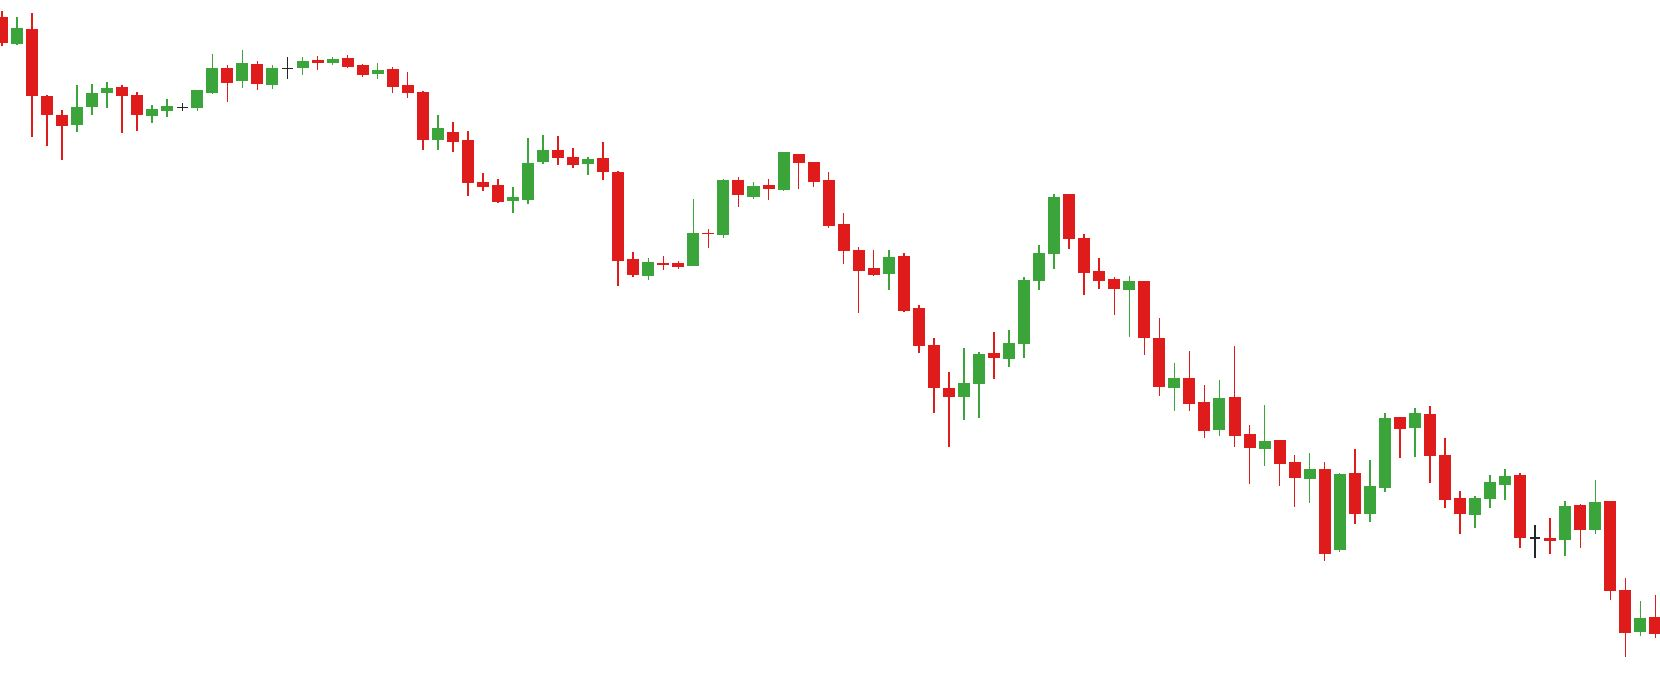sell: (885, 194, 1090, 333)
